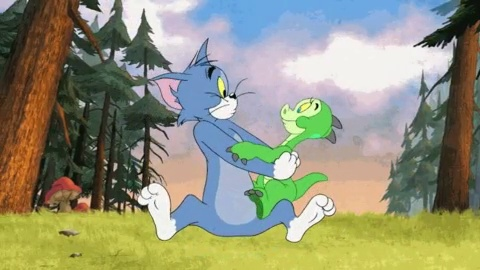tom: (132, 37, 338, 247)
